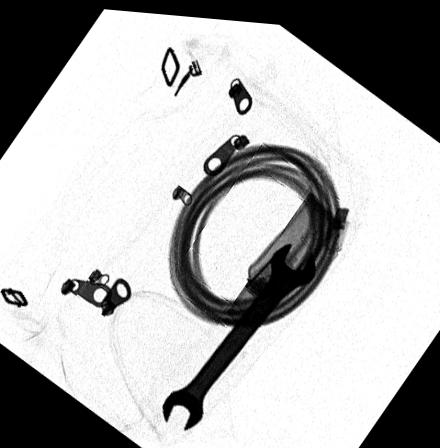Wrench: (161, 234, 315, 429)
